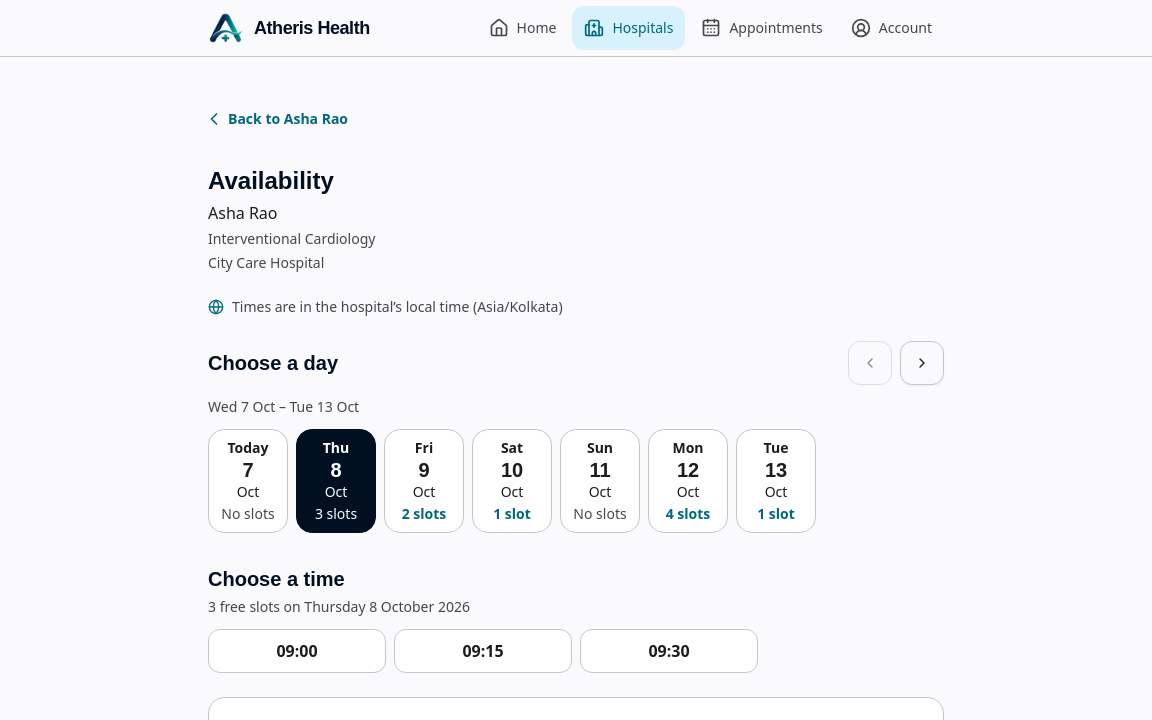
Scenario: doctor availability — what the server returned, on the hospital’s clock › a time pressed goes into the address, opens the way to booking with the slot in its link, and Clear selection takes it out
Step 1. Click the button with aria-label "Friday 9 October 2026" → (424, 481), box [384, 429, 464, 533]
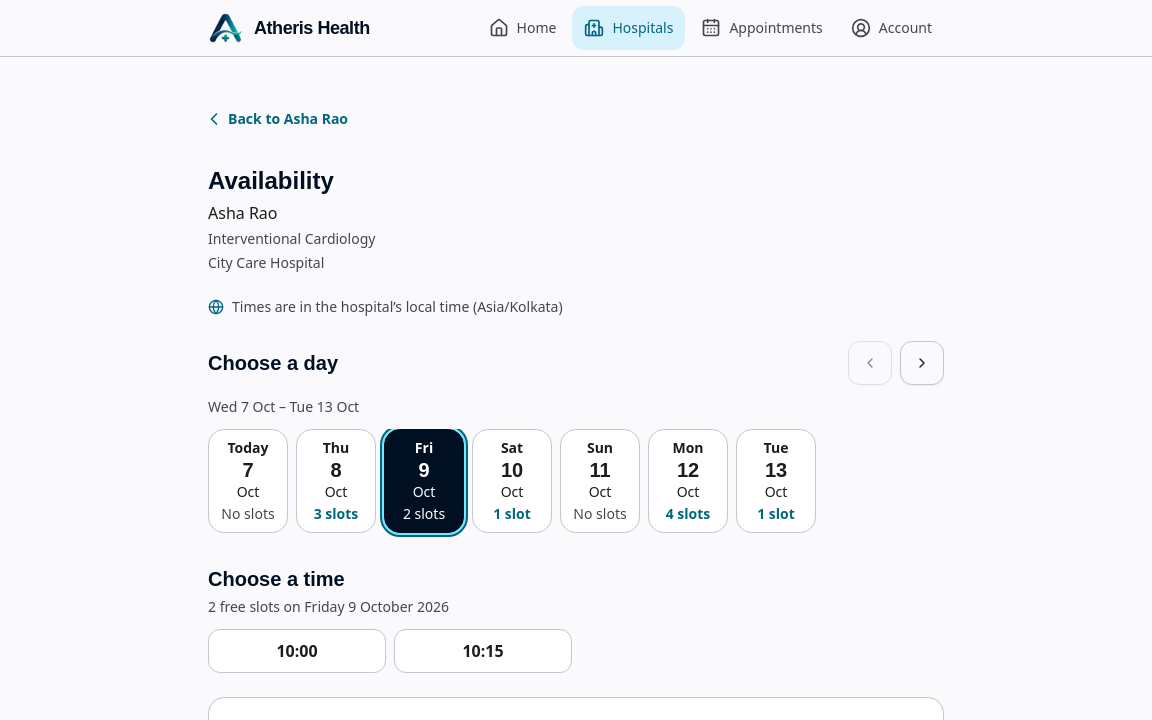
Step 2. Click the button named "10:15 to 10:30" → (483, 651), box [394, 629, 572, 673]
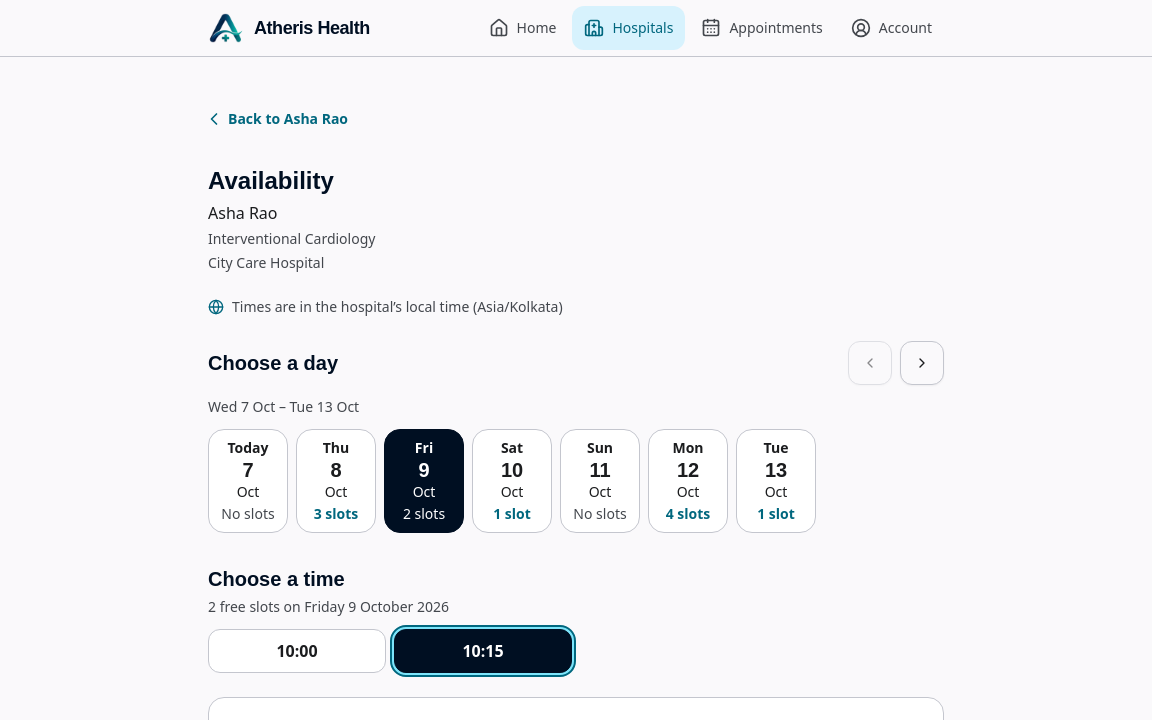
Expected: the button "Continue to booking" is not shown
Expected: the button named "10:15 to 10:30" is pressed, [394, 629, 572, 673]
Another time replaces the first.
Step 3. Click the button named "10:00 to 10:15" → (297, 651), box [208, 629, 386, 673]
(page scrolled)
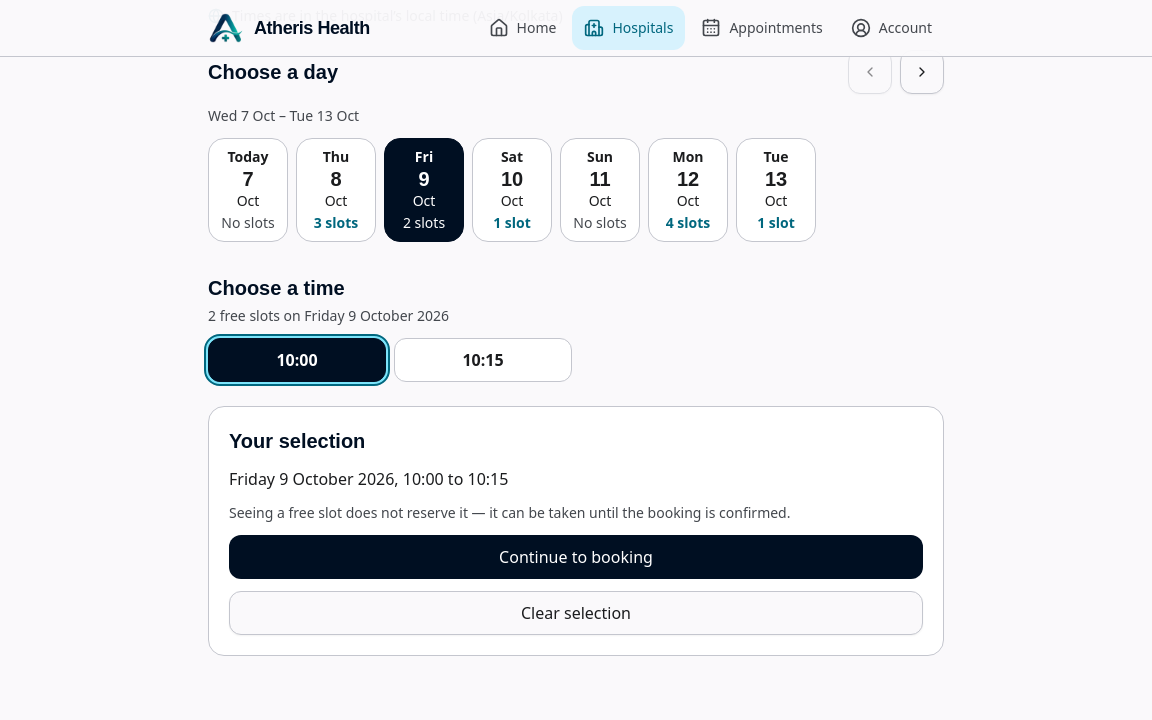
Expected: the button named "10:15 to 10:30" is not pressed, [394, 338, 572, 382]
Expected: the button named "10:00 to 10:15" is pressed, [208, 338, 386, 382]
Step 4. Click the button "Clear selection" → (576, 613), box [229, 591, 923, 635]
(page scrolled)
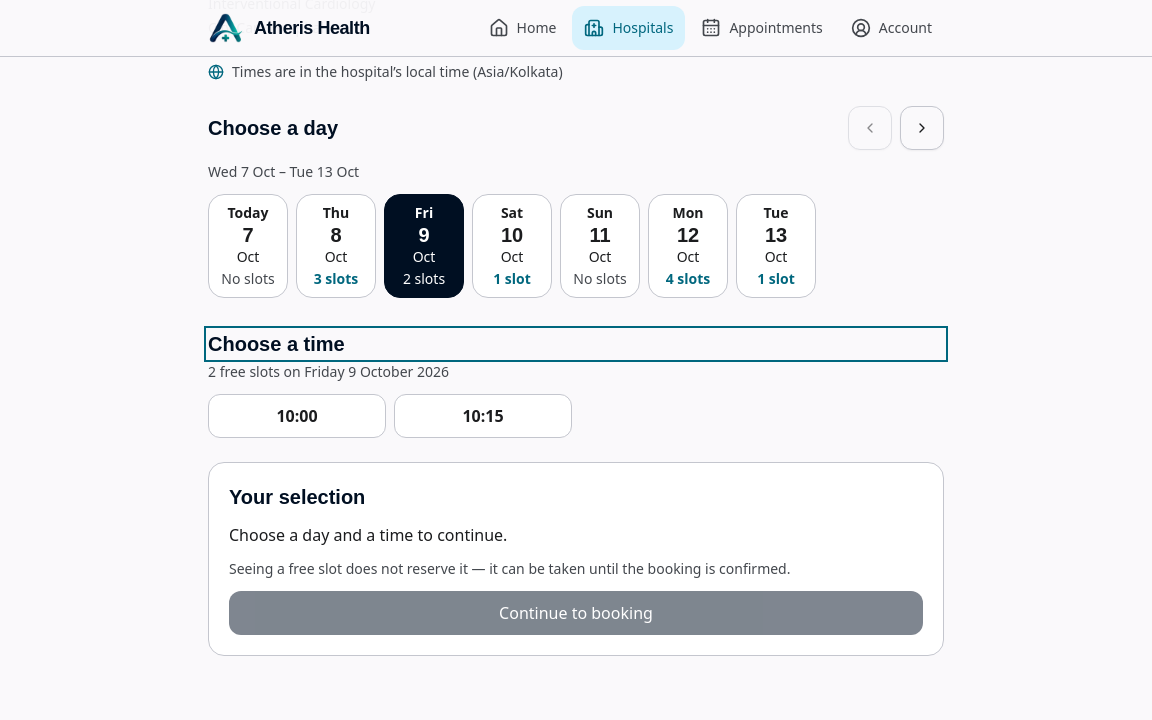
Expected: the button "Continue to booking" is disabled, [229, 591, 923, 635]
Expected: the button "Clear selection" is gone
Pressing a chosen time again lets go of it too.
Step 5. Click the button named "10:00 to 10:15" → (297, 416), box [208, 394, 386, 438]
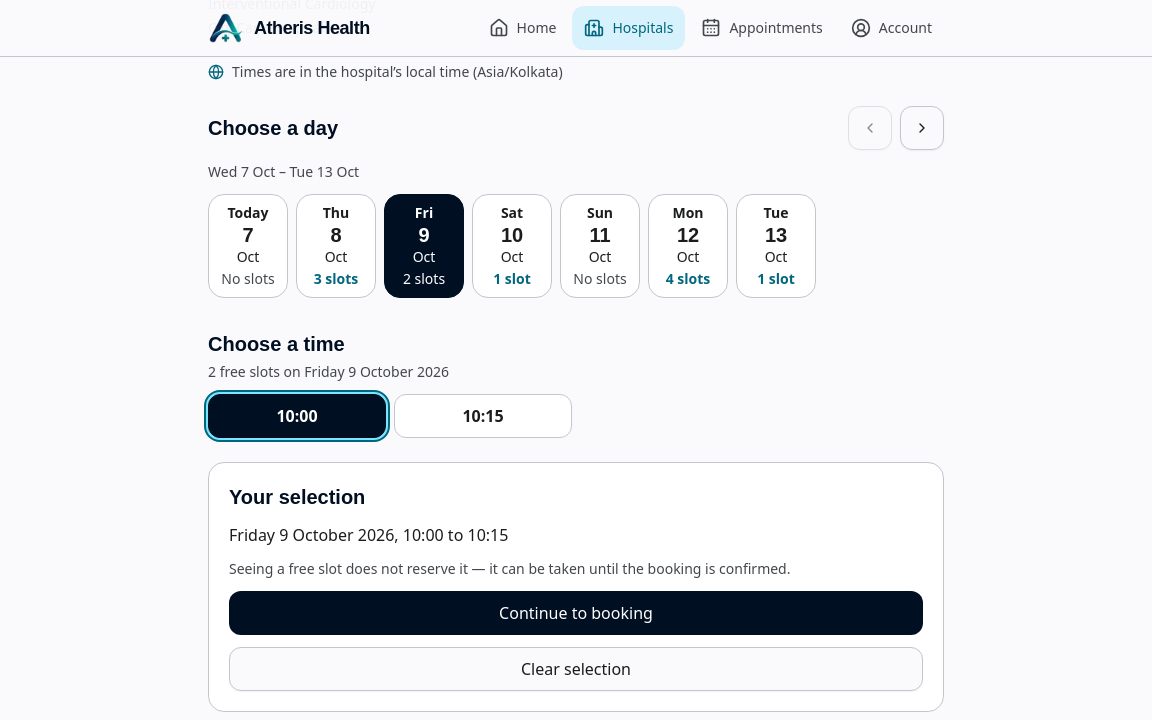
Step 6. Click the button named "10:00 to 10:15" → (297, 416), box [208, 394, 386, 438]
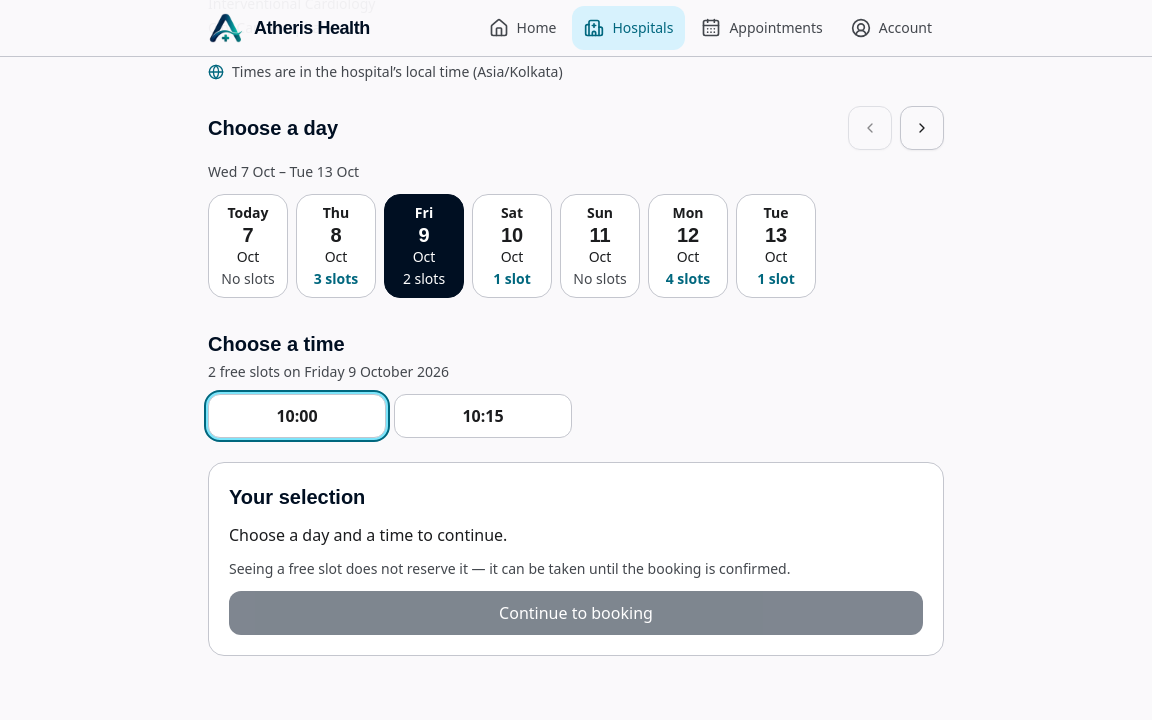
Expected: the button "Continue to booking" is disabled, [229, 591, 923, 635]
